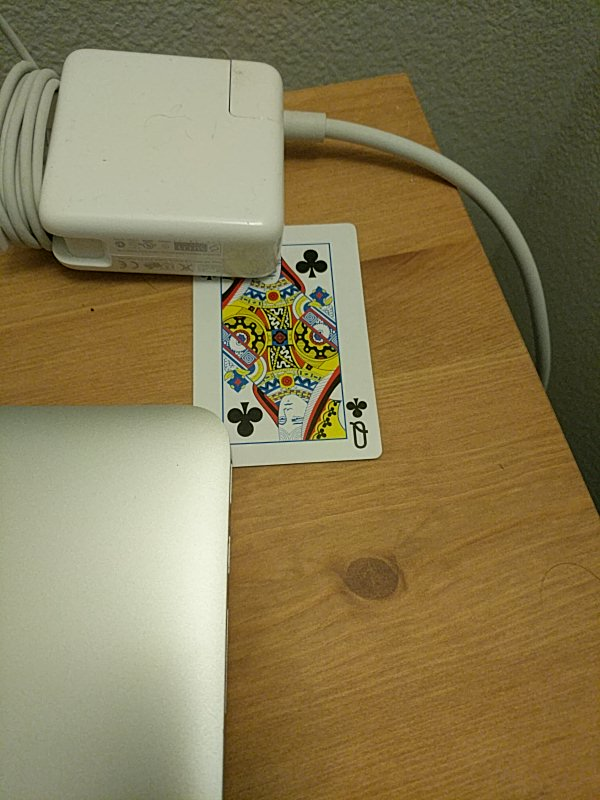Clubs: (189, 223, 382, 463)
